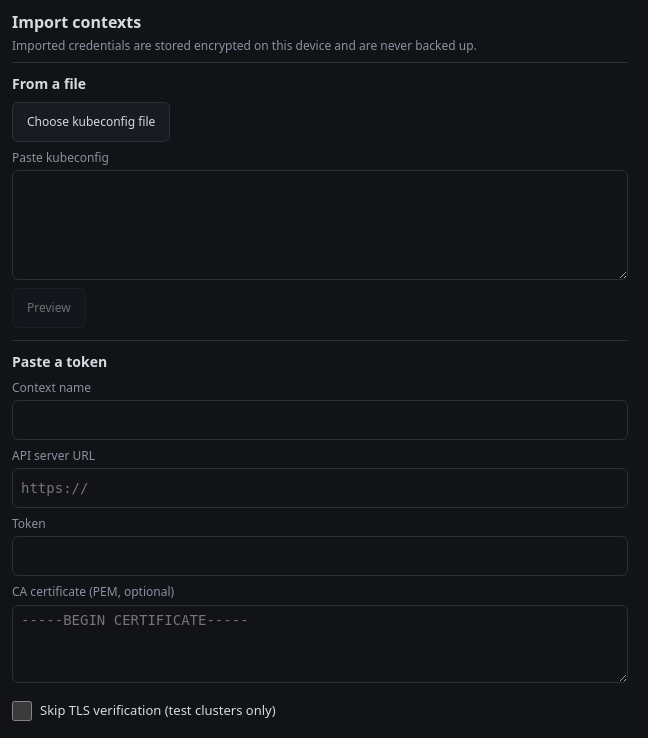
Test: ImportView › previews pasted text and cancels the preview
Expected: the button "Preview" is disabled, [12, 288, 86, 328]
Type "apiVersion: v1" into the text box labelled "Paste kubeconfig" at (320, 225), box [12, 170, 628, 280]
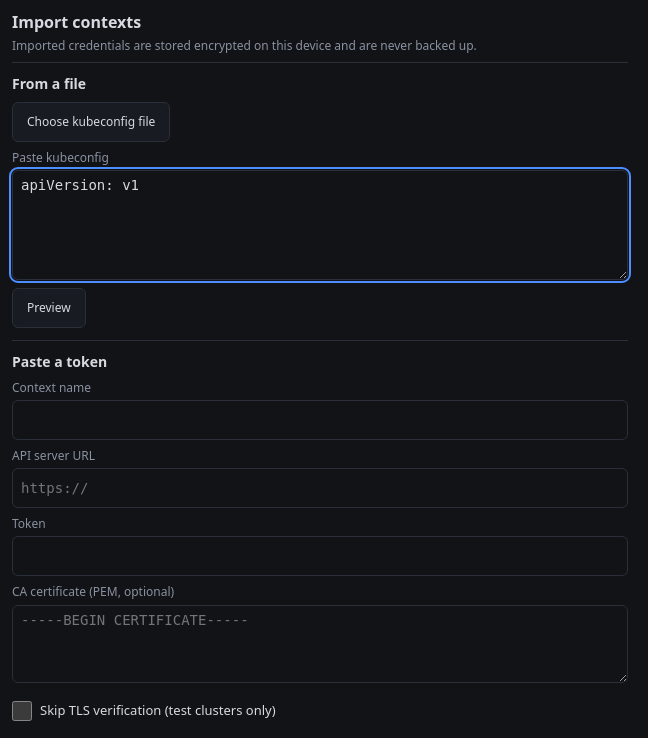
Click the button "Preview" at (49, 308), box [12, 288, 86, 328]
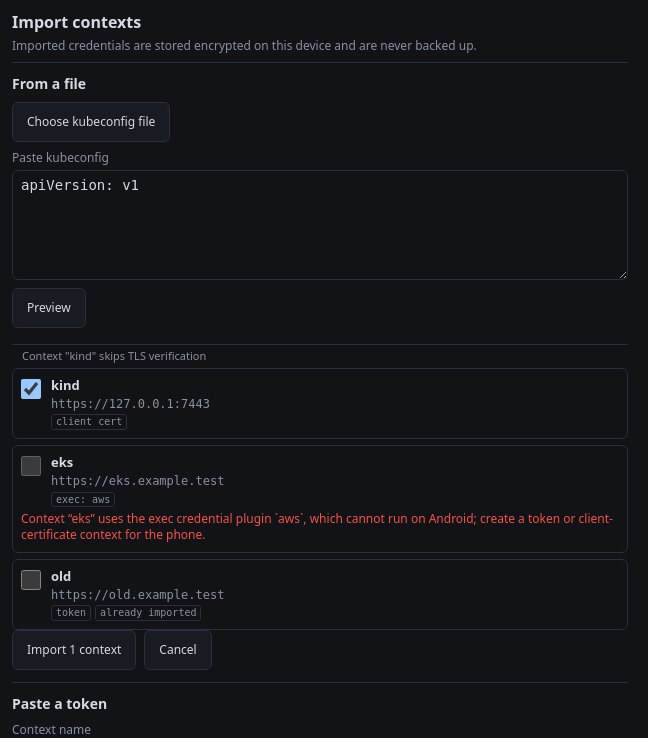
Expected: the checkbox labelled "kind https://127.0.0.1:7443 client cert" is checked, [21, 379, 41, 399]
Click the button "Cancel" at (178, 650), box [144, 630, 212, 670]
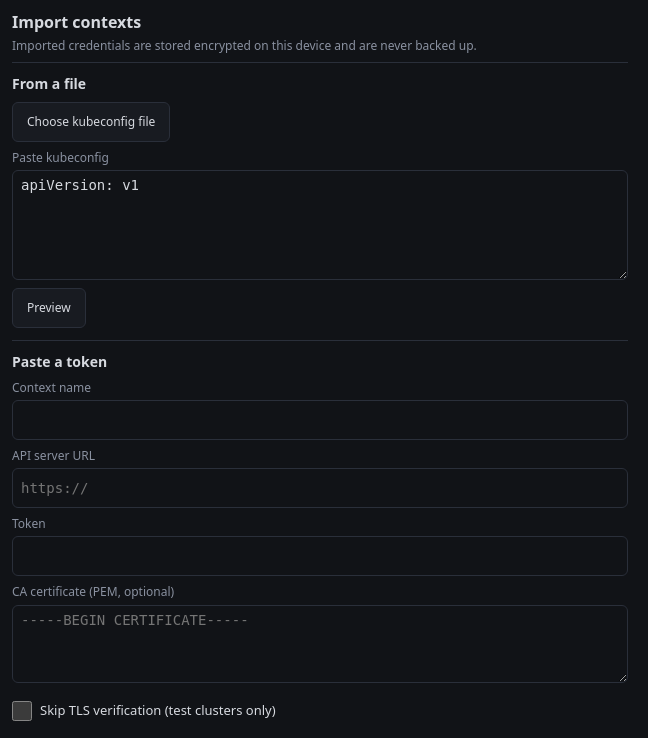
Expected: the list item "kind" is gone
